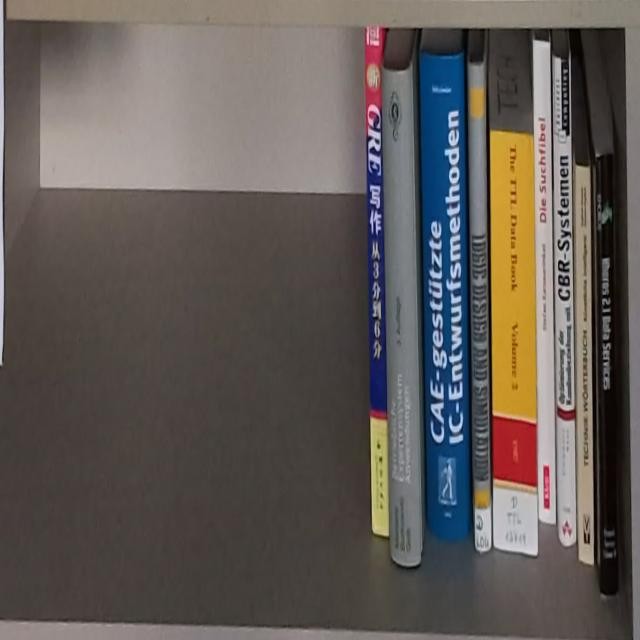Book Spine: (419, 51, 471, 546), (488, 132, 539, 554), (381, 65, 422, 567), (466, 60, 493, 550), (531, 38, 558, 524), (365, 26, 390, 545), (553, 54, 578, 546), (595, 145, 621, 596), (573, 165, 594, 571)
